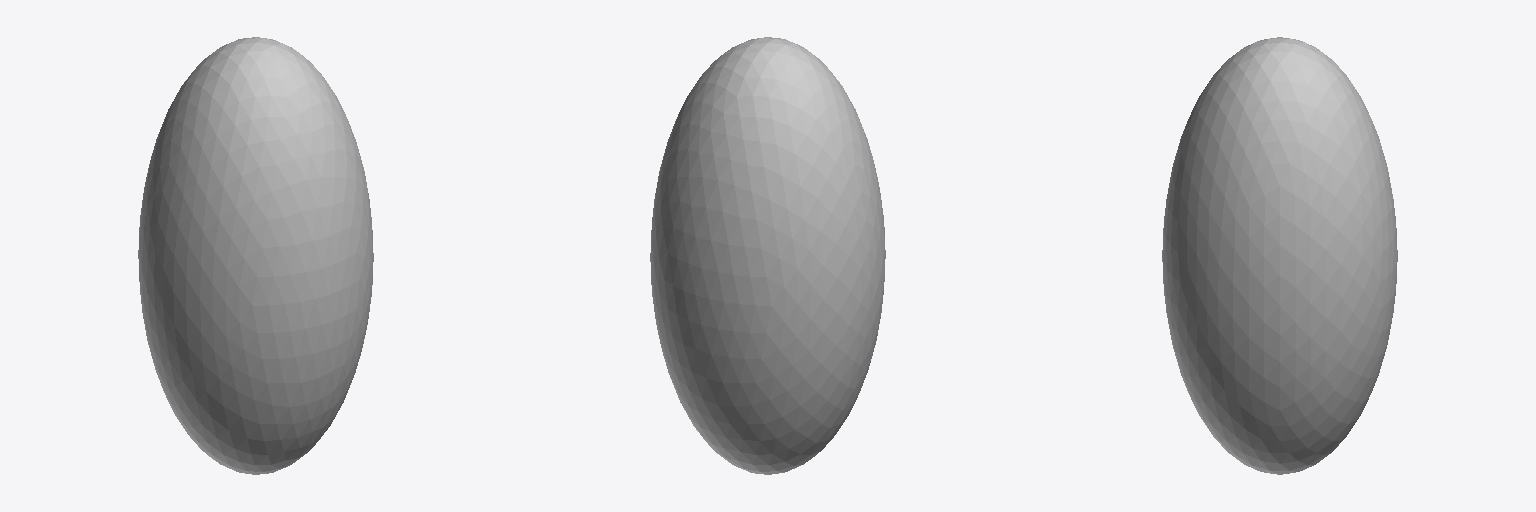
The model's file is ellipsoid.obj.
3 views of the same model, side by side, from view 1: azimuth 30°, elevation 25°; view 2: azimuth 150°, elevation 25°; view 3: azimuth 270°, elevation 25° (orthographic).
Size of the model in its own units: 1 by 2 by 1.